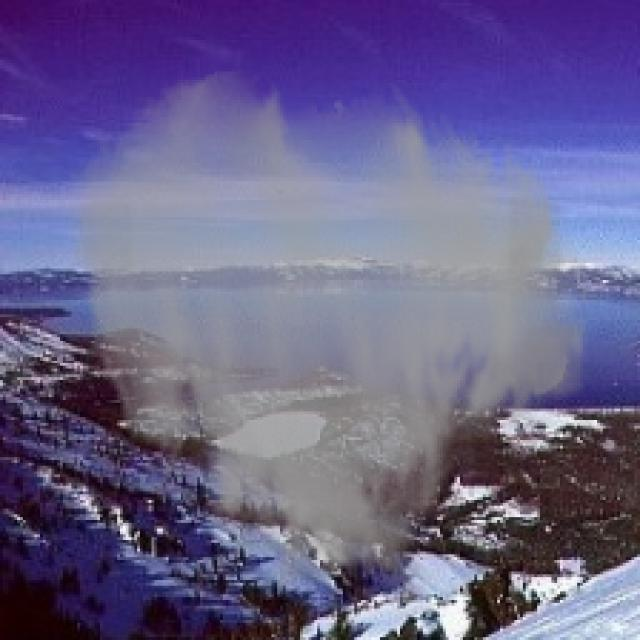Smoke: (62, 65, 594, 606)
